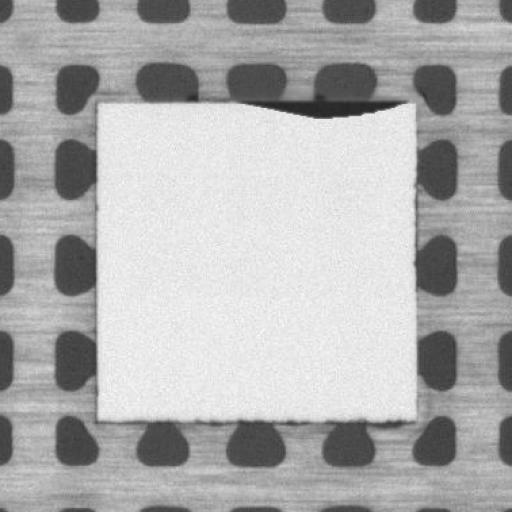DIE_BROKEN: (250, 92, 410, 119)
